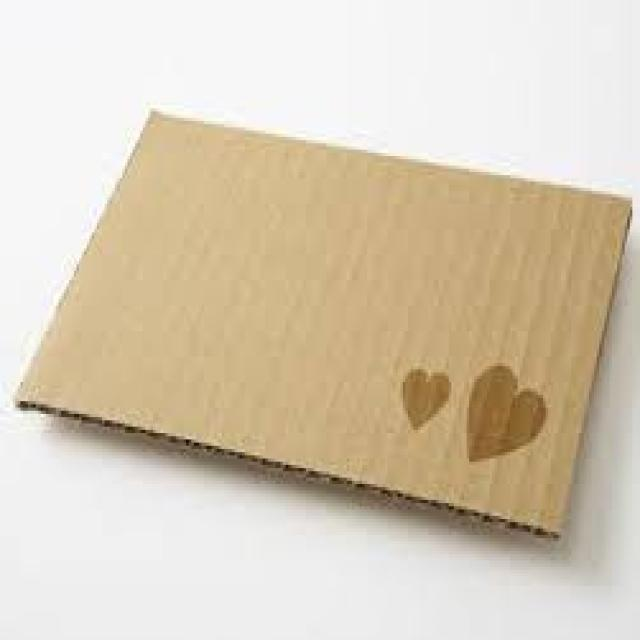Cardboard: (14, 106, 630, 541)
